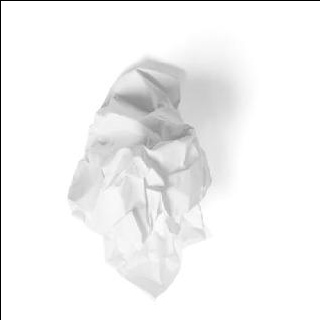8/可回收垃圾/纸: (67, 65, 212, 297)
